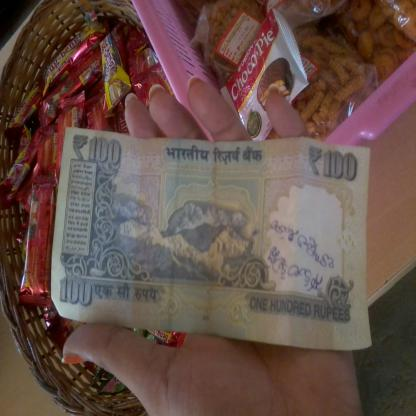Old100Back: (50, 126, 374, 352)
